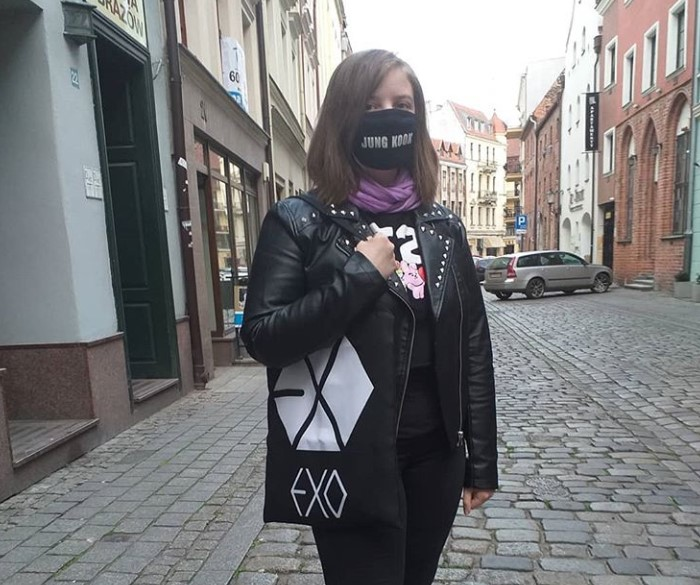face_with_mask: (324, 47, 438, 189)
